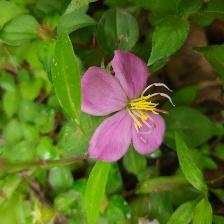malabar melastome: (80, 48, 176, 166)
